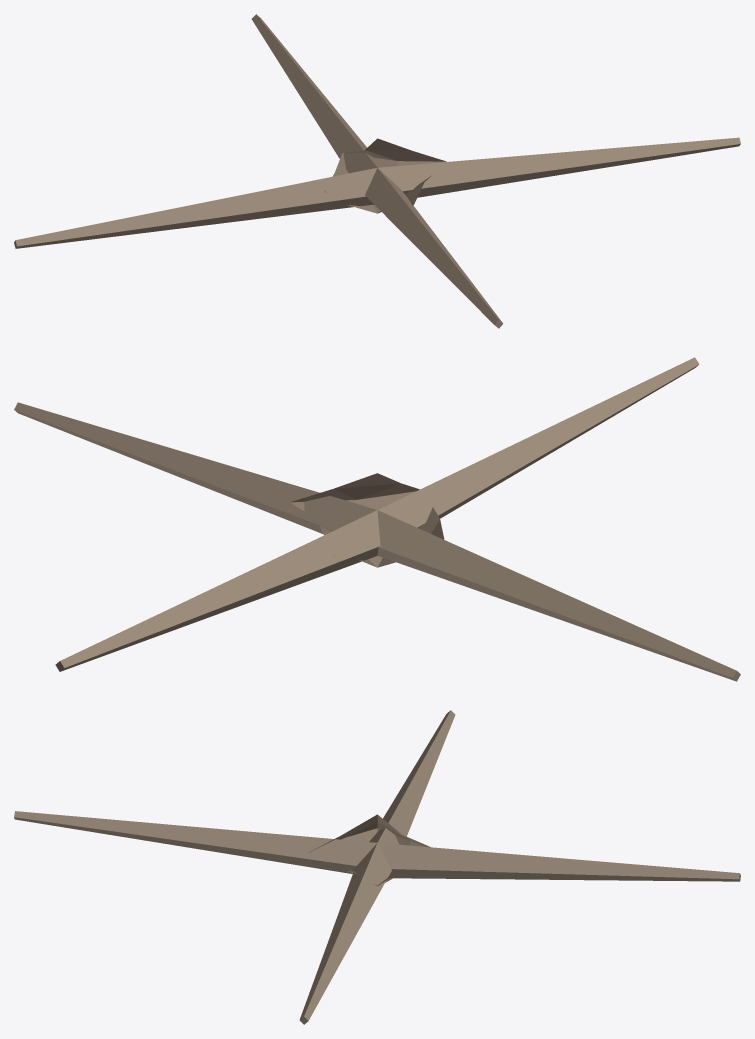
3 renders of one model, top to bottom at view 1: azimuth 30°, elevation 25°; view 2: azimuth 150°, elevation 25°; view 3: azimuth 270°, elevation 25°, orthographic. The views are drawn at different scales.
Parts seen in each view (by area): view 1: lod0; view 2: lod0; view 3: lod0.
Boxes of the visible parts, <box> form: lod0: <box>14,14,740,328</box>; lod0: <box>14,357,740,681</box>; lod0: <box>14,710,740,1024</box>.
Size of what is drawn, in the model's own units: 1.87 by 0.2067 by 1.87.
